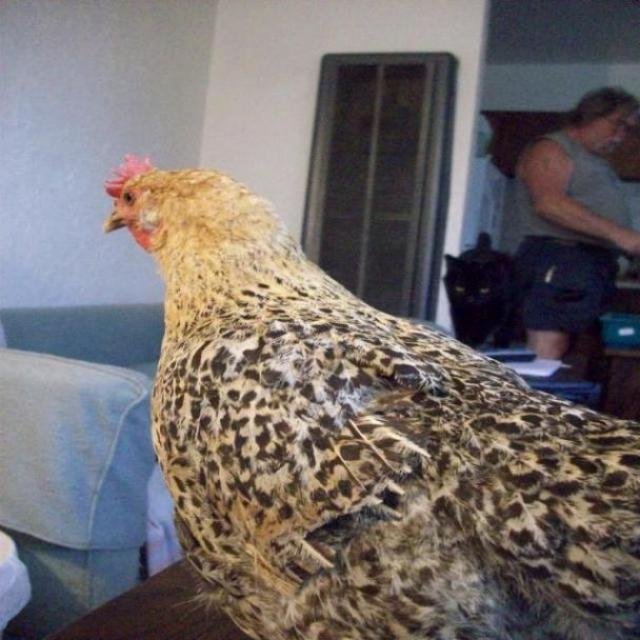Chicken: (113, 143, 610, 640)
